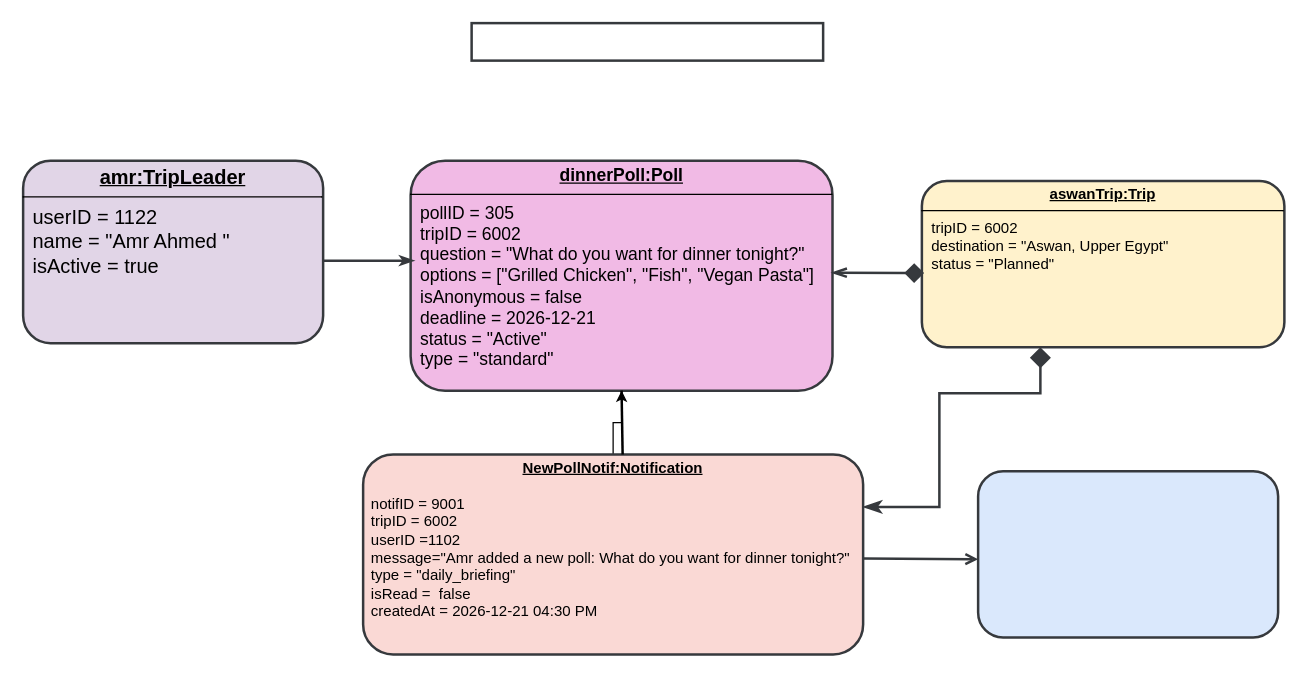
Image size: 1306x676. Some labels were removed from this diagram. Here are the shapes that lost their labels. From the top down, the centre of each, then its label:
the point at 647,41: Poll Management & Notification System
the point at 1127,553: sara:Member userID = 1102 name = "Sara Ali " isActive = true
